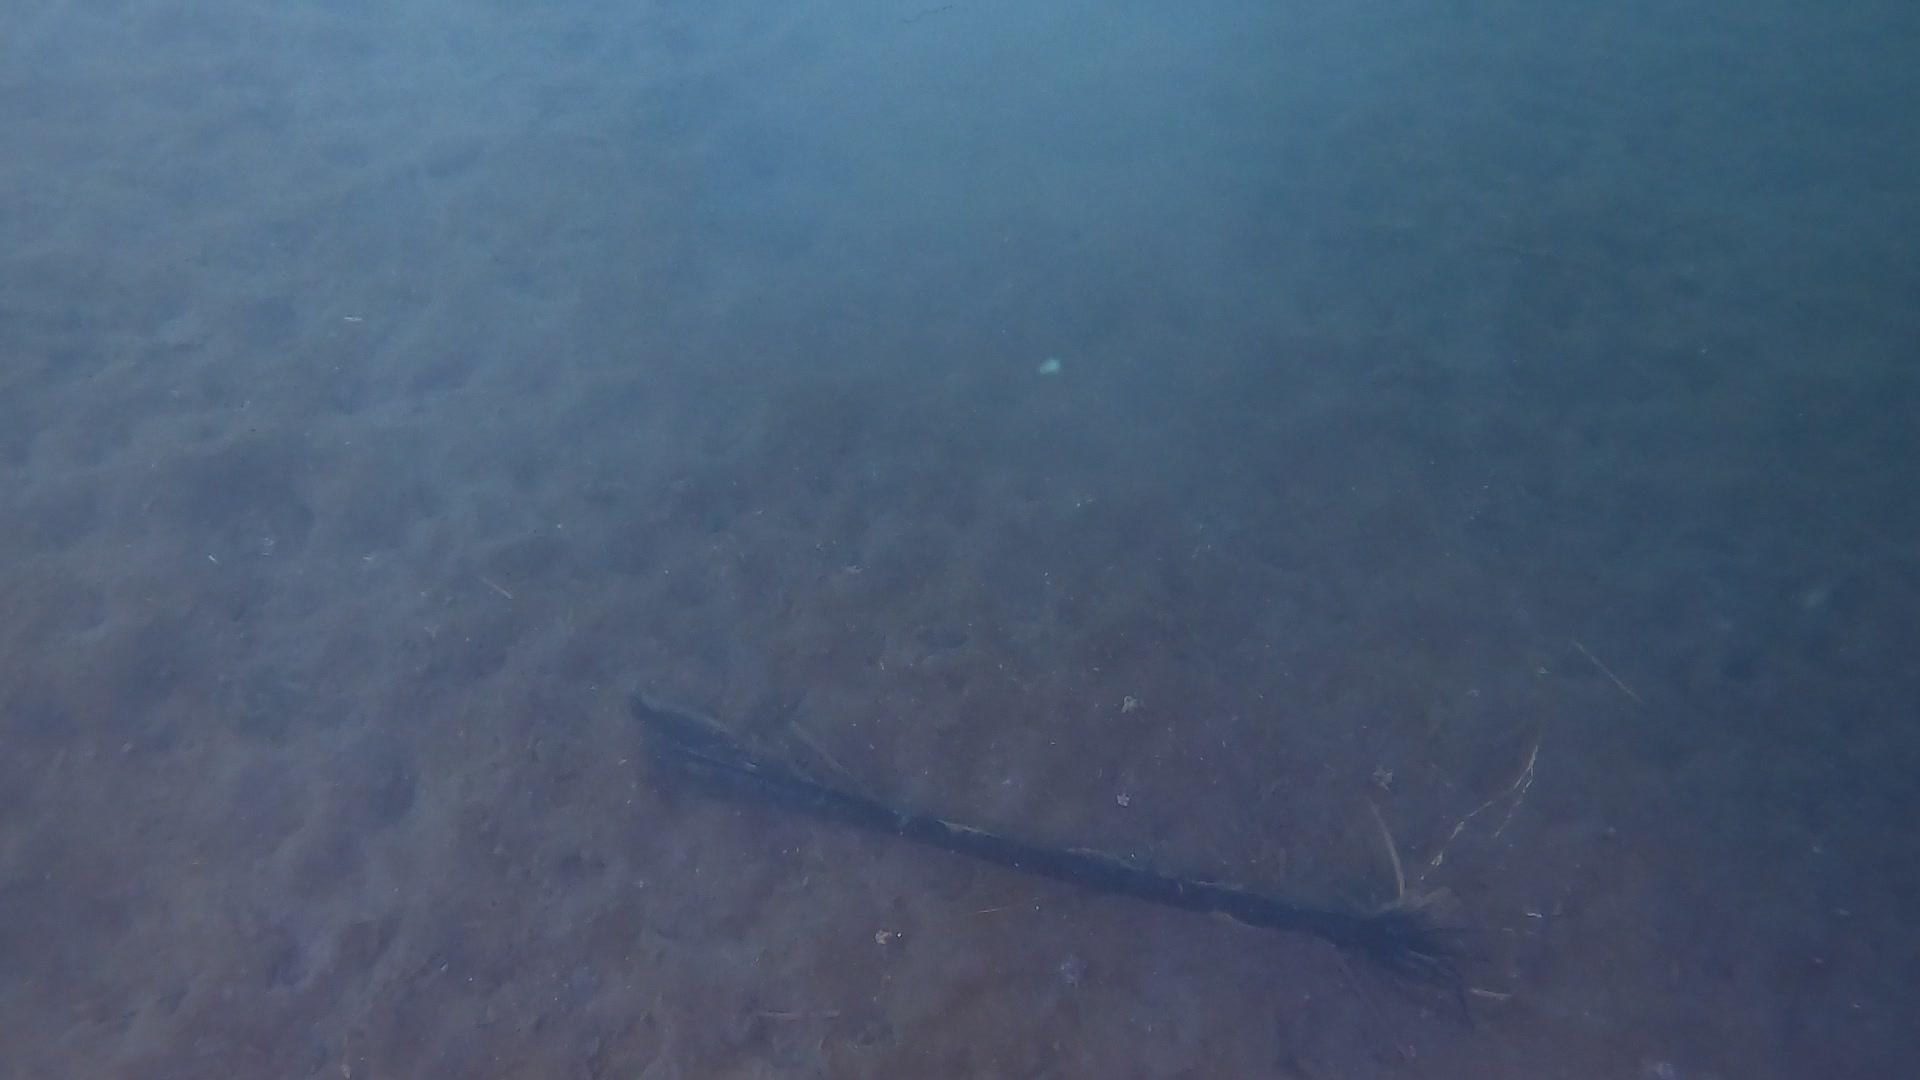wood: (626, 692, 1528, 1014)
